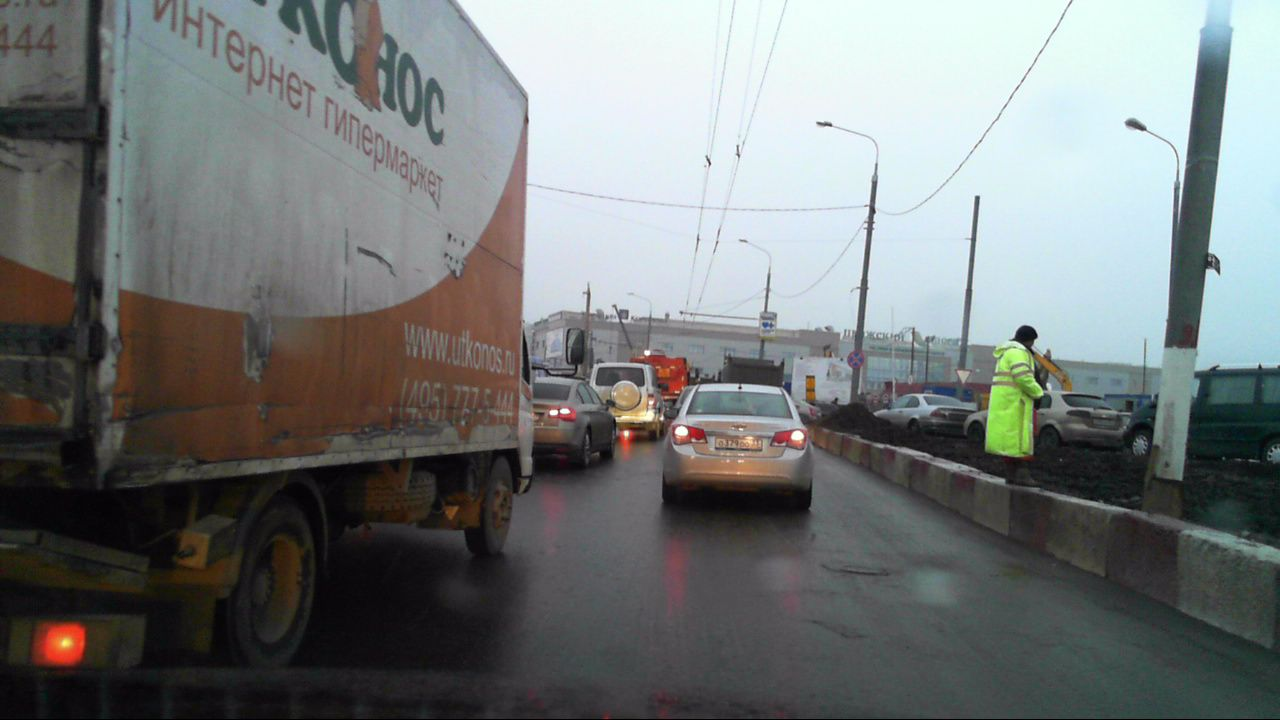No Parking: (847, 350, 866, 369)
